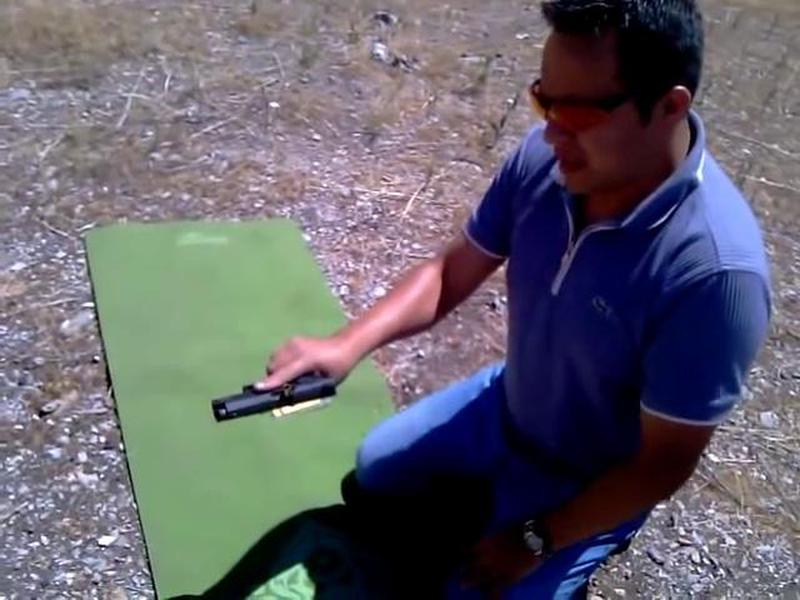Pistola: (197, 347, 358, 430)
